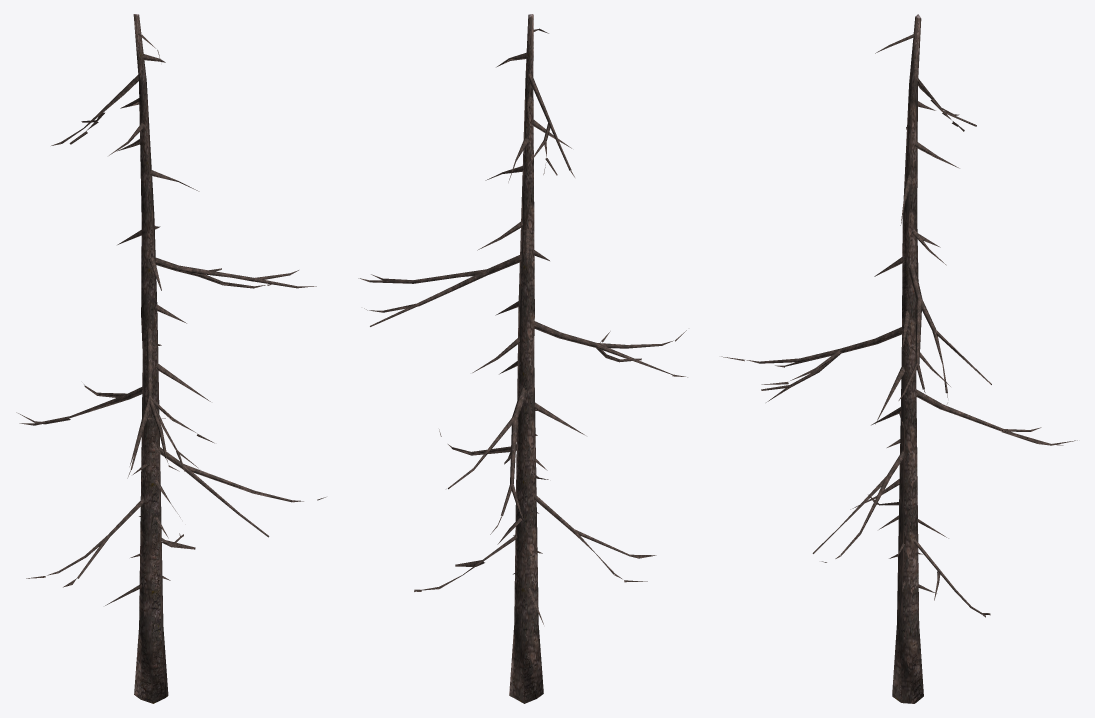
Rendered from deadtree.glb.
3 renders of one model, left to right at view 1: azimuth 30°, elevation 25°; view 2: azimuth 150°, elevation 25°; view 3: azimuth 270°, elevation 25°, orthographic.
Parts seen in each view (by area): view 1: deadtree; view 2: deadtree; view 3: deadtree.
Part boxes in pixels (x1,y1,x2,y2): deadtree: (16, 14, 325, 703); deadtree: (358, 14, 687, 703); deadtree: (721, 14, 1077, 703).
Bounding box in the file's own units: 6.55 × 15 × 7.27.
Materials: 1 (1 with a texture image).
